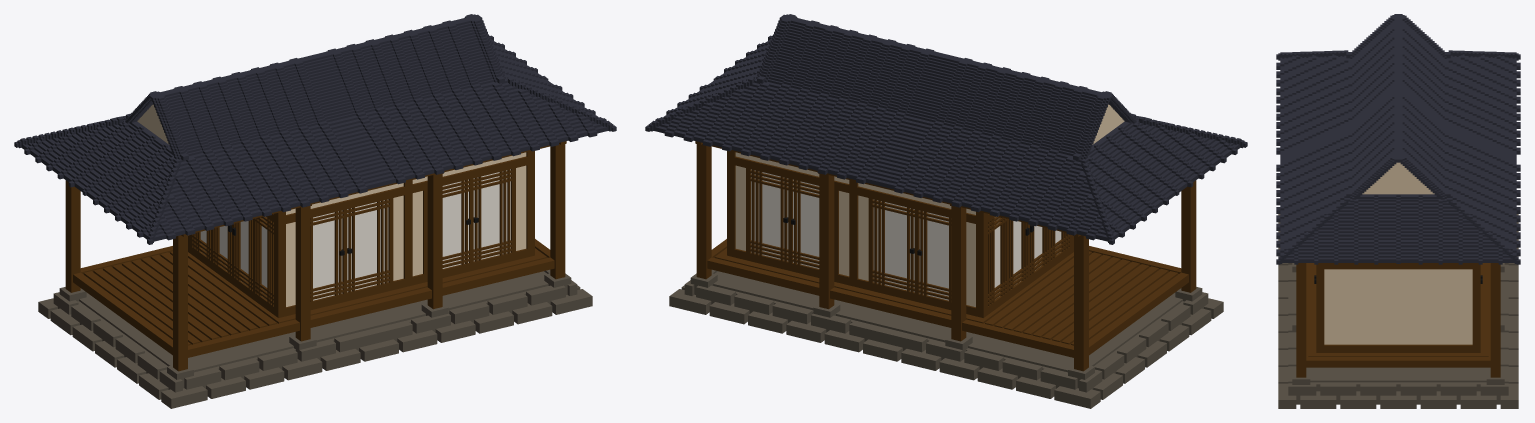
File: house5.glb
3 views of the same model, side by side, from view 1: azimuth 30°, elevation 25°; view 2: azimuth 150°, elevation 25°; view 3: azimuth 270°, elevation 25° (orthographic). The views are drawn at different scales.
Parts seen in each view (by area): view 1: Voxel_Korean_traditional village-30; view 2: Voxel_Korean_traditional village-30; view 3: Voxel_Korean_traditional village-30.
Boxes of the visible parts, x1,y1,x2,y2 form: Voxel_Korean_traditional village-30: (14, 14, 616, 408); Voxel_Korean_traditional village-30: (645, 14, 1247, 408); Voxel_Korean_traditional village-30: (1276, 14, 1520, 408).
Size of the model in its own units: 244 by 126 by 122.
2 materials, 2 textured.
